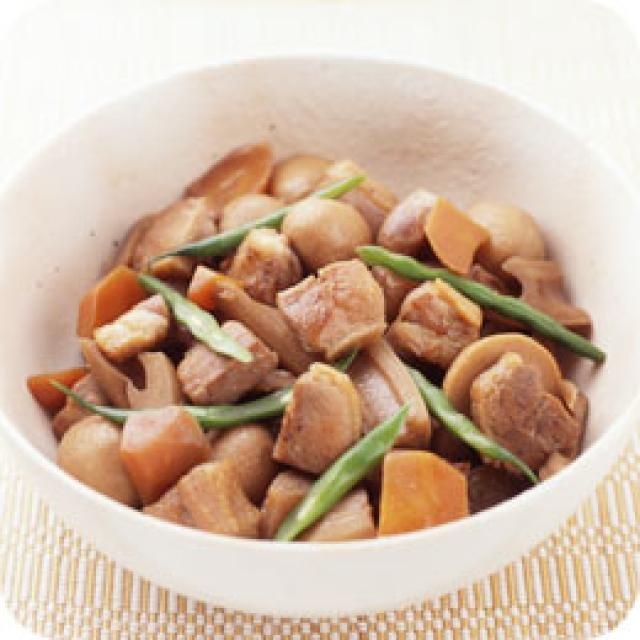鸡肉料理 含炸鸡: (0, 32, 640, 554)
